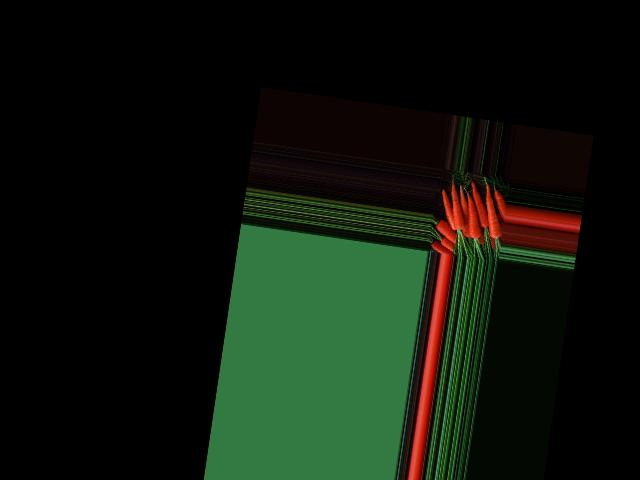carrot: (482, 179, 509, 244)
